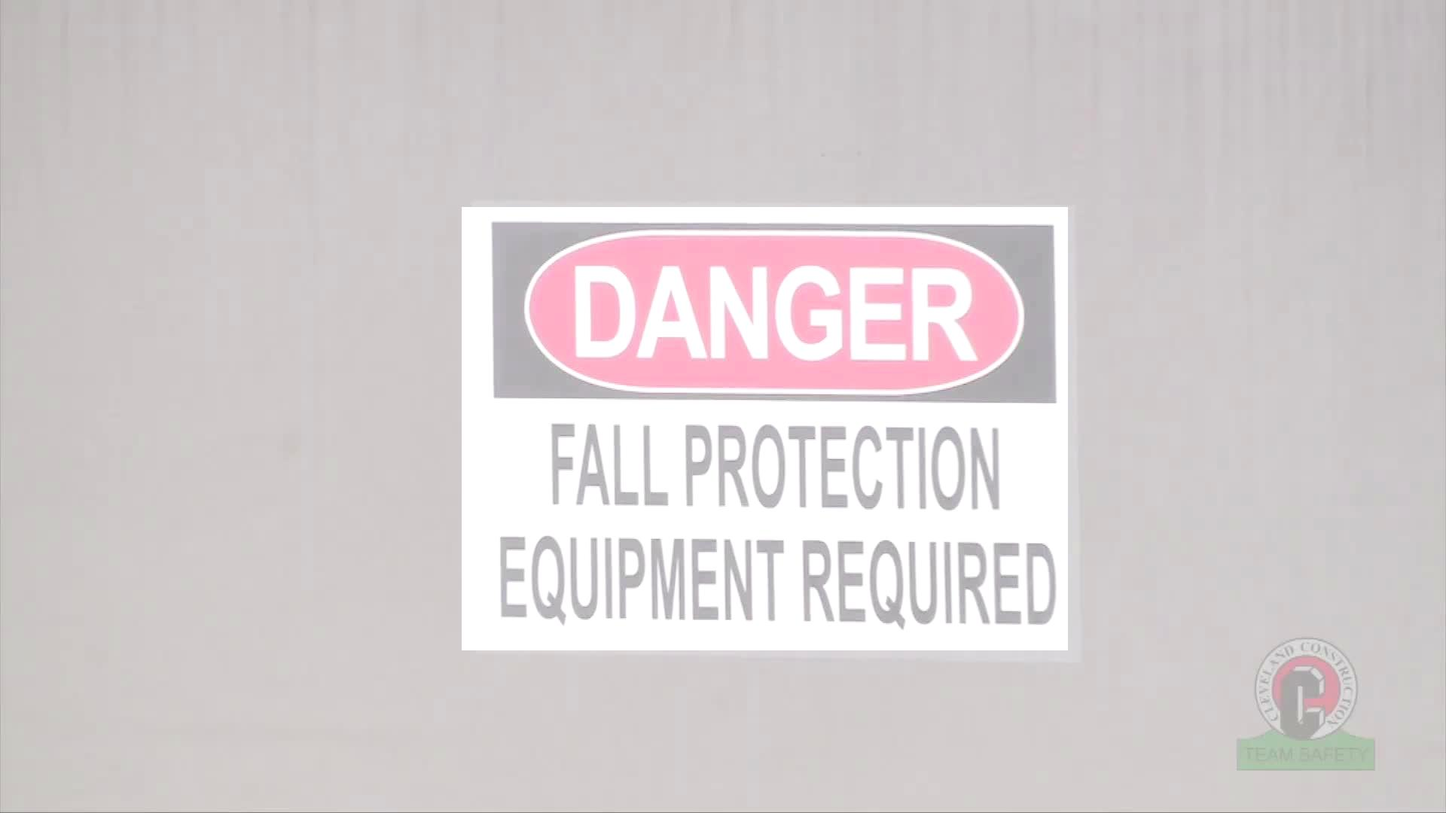safety_signage: (462, 207, 1068, 650)
